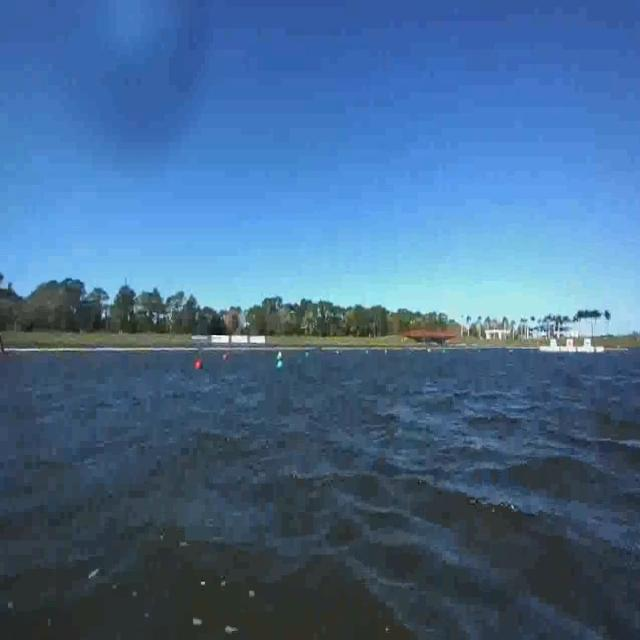red-buoy: (197, 358, 204, 371)
